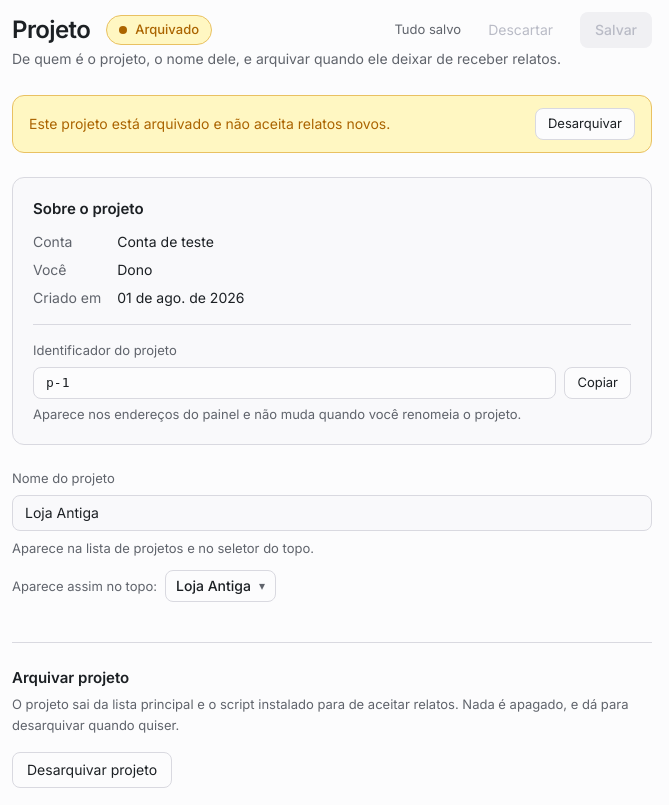
Test: ProjectSettingsScreen › a pílula diz Ativo; arquivado, diz Arquivado e a faixa desarquiva
Expected: the field showing "Loja Antiga" is shown, [12, 495, 652, 531]
Expected: the text "Arquivado" is shown, [106, 15, 212, 45]
Click the button "Desarquivar".
click(585, 124)  # box [535, 108, 635, 140]
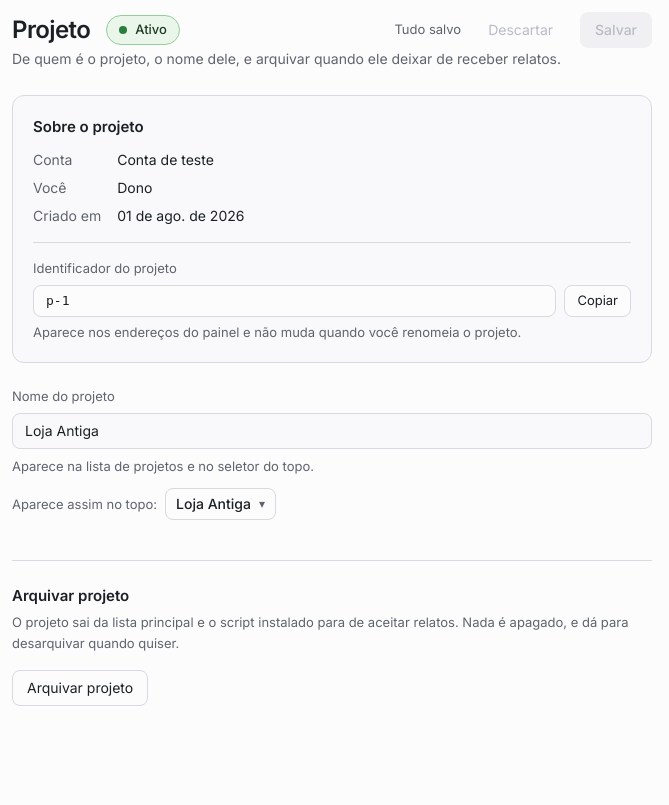
Now the text "Ativo" is shown, box [106, 15, 180, 45]
Now the text "Este projeto está arquivado e não aceita relatos novos." is gone
